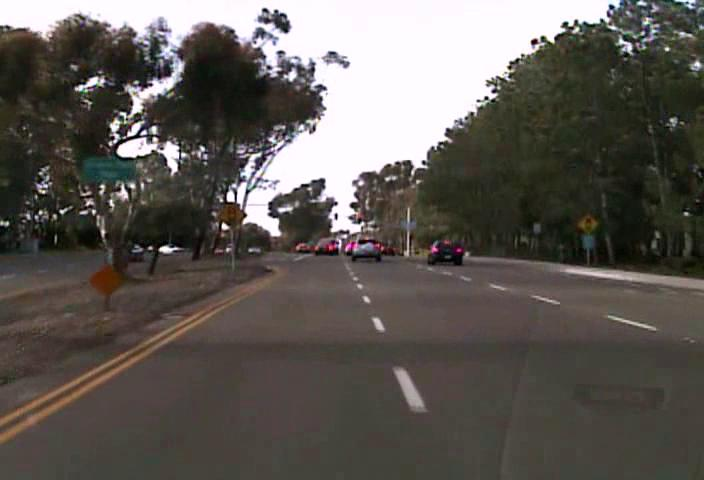signalAhead: (576, 211, 599, 235)
